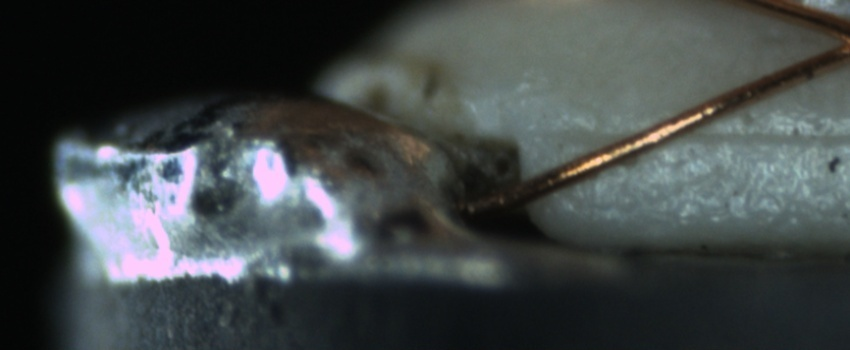CL: (804, 11, 849, 75)
DL: (548, 107, 850, 166)
